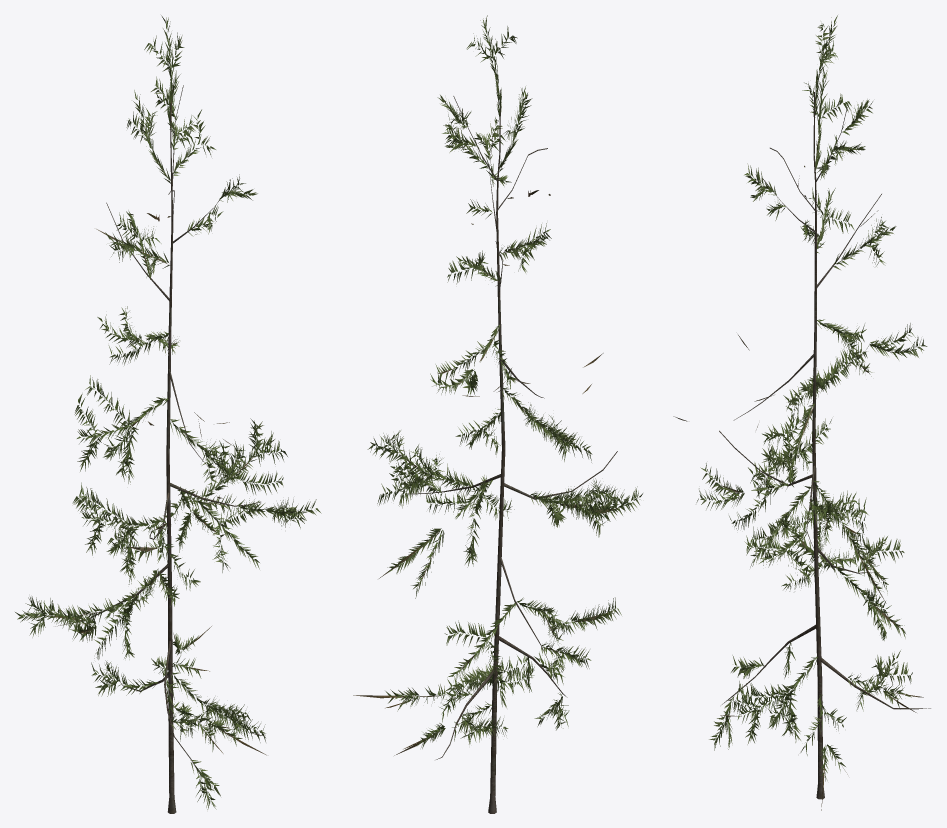
File: tree_fir_sapling.glb
3 views of the same model, side by side, from view 1: azimuth 30°, elevation 25°; view 2: azimuth 150°, elevation 25°; view 3: azimuth 270°, elevation 25° (orthographic). The views are drawn at different scales.
Parts seen in each view (by area): view 1: tree_fir_sapling; view 2: tree_fir_sapling; view 3: tree_fir_sapling.
Part boxes in pixels (x1,y1,x2,y2): tree_fir_sapling: (15, 15, 321, 813); tree_fir_sapling: (353, 15, 642, 813); tree_fir_sapling: (673, 15, 930, 810).
Size of what is drawn, in the model's own units: 1.14 by 3.5 by 1.05.
2 materials, 2 textured.
